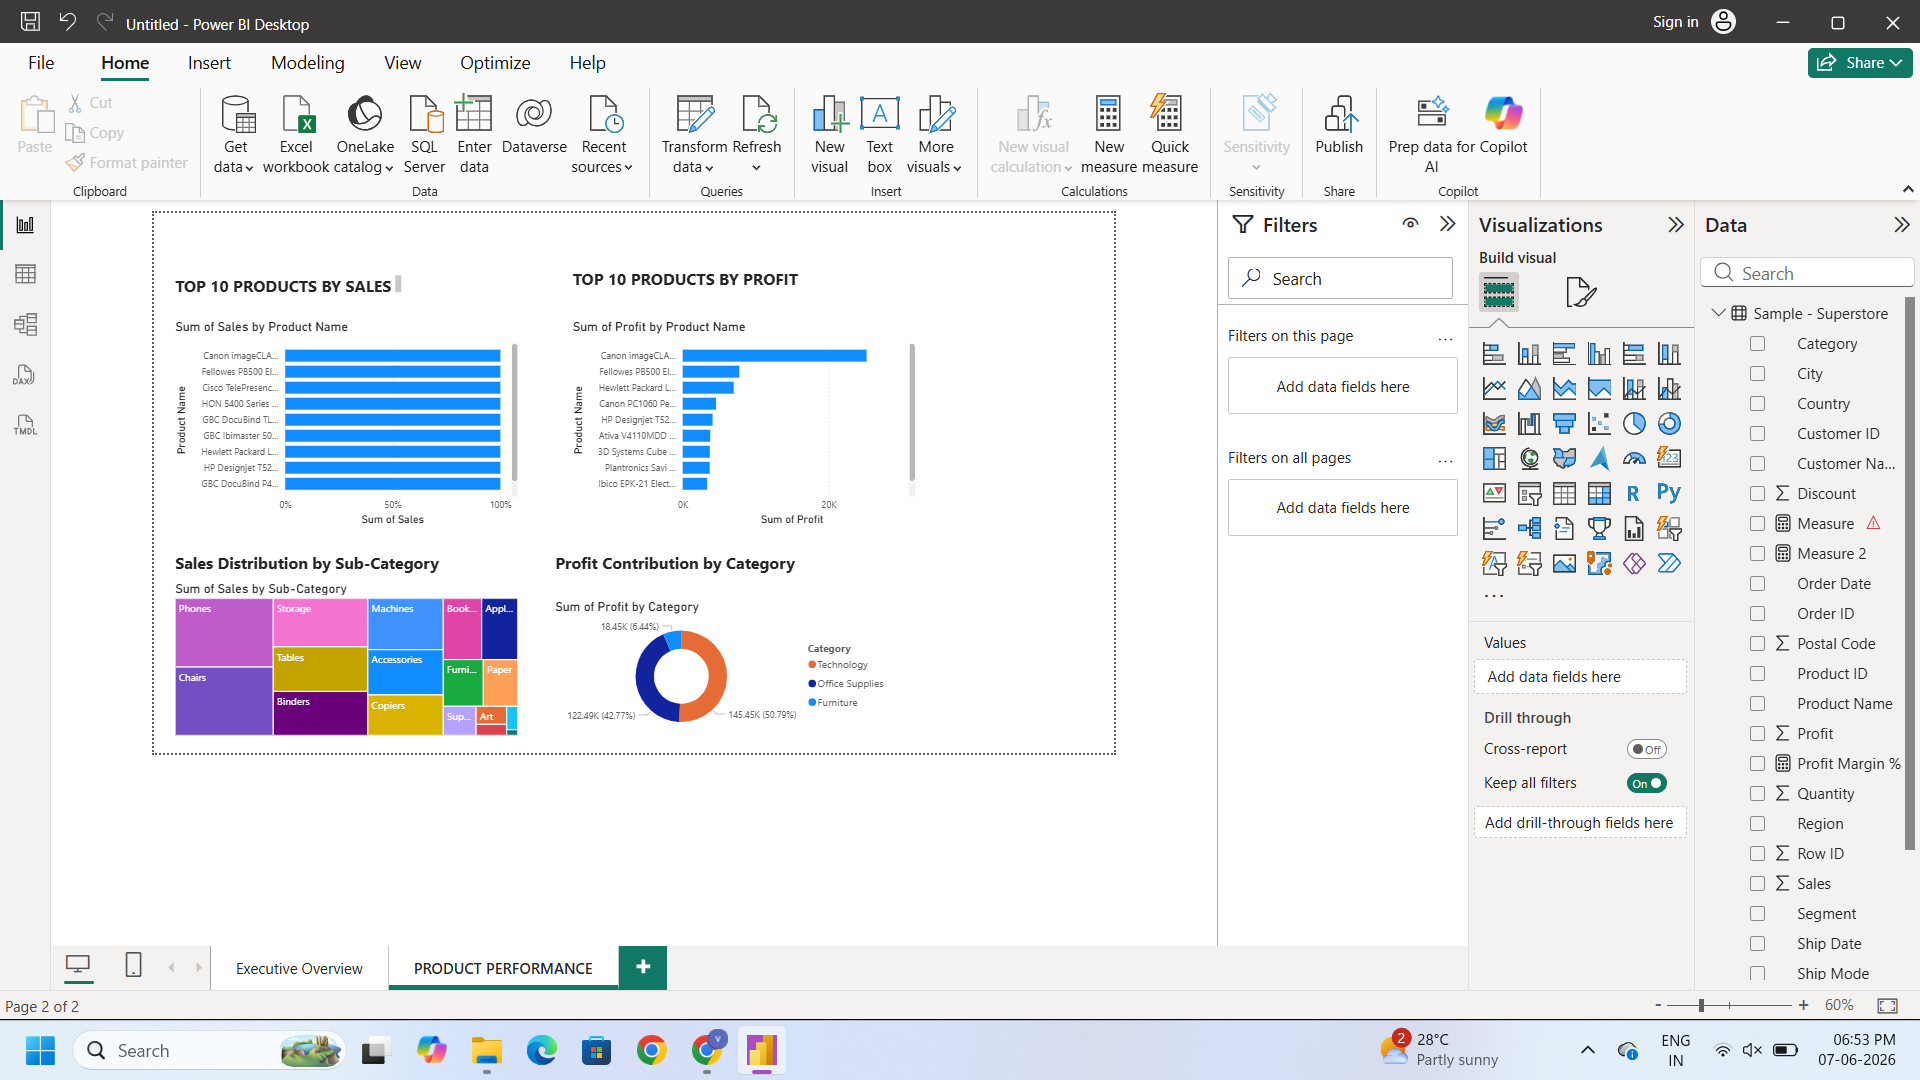

The page's visual inventory and layout, read from the dashboard file:
{"tool":"powerbi","page":{"name":"PRODUCT PERFORMANCE","canvas":[1280,720],"ordinal":1},"visuals":[{"type":"hundredPercentStackedBarChart","fields":{"Category":["Sample - Superstore.Product Name"],"Y":["Sum(Sample - Superstore.Sales)"]},"box":[23.3,141.7,466.7,280],"z":0},{"type":"textbox","box":[23.3,78.3,311.7,35],"z":1},{"type":"barChart","fields":{"Y":["Sum(Sample - Superstore.Profit)"],"Category":["Sample - Superstore.Product Name"]},"box":[553.3,141.7,466.7,280],"z":2},{"type":"textbox","box":[553.3,68.3,466.7,56.7],"z":3},{"type":"treemap","fields":{"Group":["Sample - Superstore.Sub-Category"],"Values":["Sum(Sample - Superstore.Sales)"]},"box":[23.3,490,466.7,211.7],"z":4},{"type":"textbox","box":[23.3,446.7,363.3,43.3],"z":5},{"type":"donutChart","fields":{"Category":["Sample - Superstore.Category"],"Y":["Sum(Sample - Superstore.Profit)"]},"box":[530,515,456.7,186.7],"z":6},{"type":"textbox","box":[530,446.7,381.7,53.3],"z":7}]}

Visuals, with their boxes on the page's 1280x720 design canvas (x1, y1, x2, y2). These are canvas units, not pixel positions in the 1920x1080 screenshot, which may show the page scaled, cropped or inside an application window:
hundredPercentStackedBarChart - Sample - Superstore.Product Name x Sum(Sample - Superstore.Sales): [23,142,490,422]
textbox: [23,78,335,113]
barChart - Sum(Sample - Superstore.Profit) x Sample - Superstore.Product Name: [553,142,1020,422]
textbox: [553,68,1020,125]
treemap - Sample - Superstore.Sub-Category x Sum(Sample - Superstore.Sales): [23,490,490,702]
textbox: [23,447,387,490]
donutChart - Sample - Superstore.Category x Sum(Sample - Superstore.Profit): [530,515,987,702]
textbox: [530,447,912,500]
